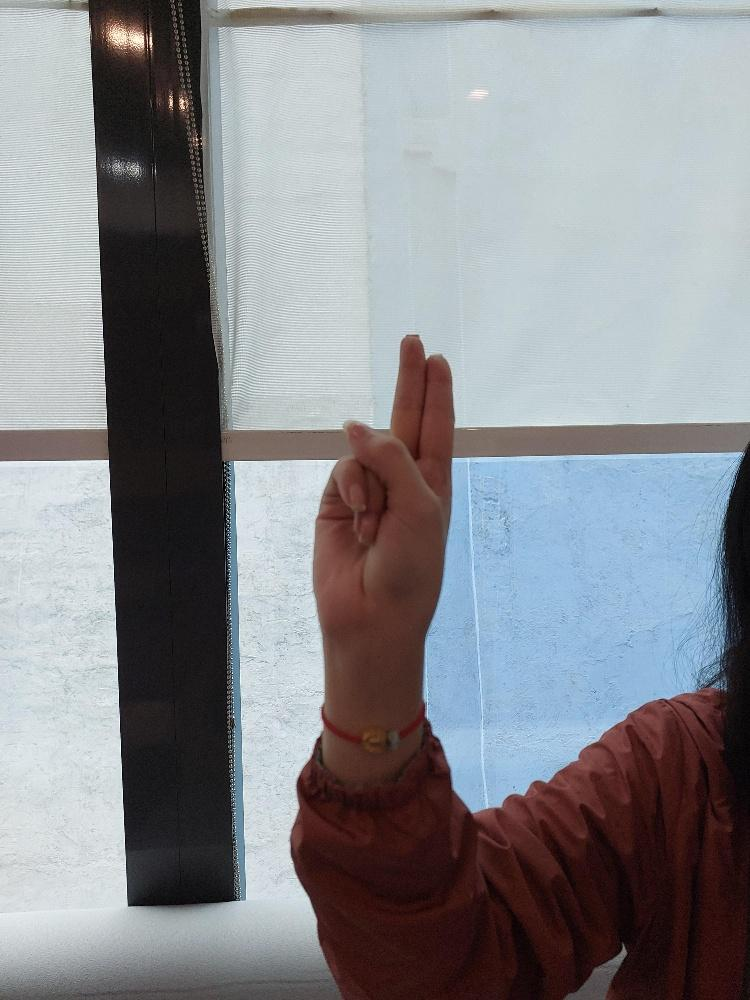u: (309, 326, 459, 659)
